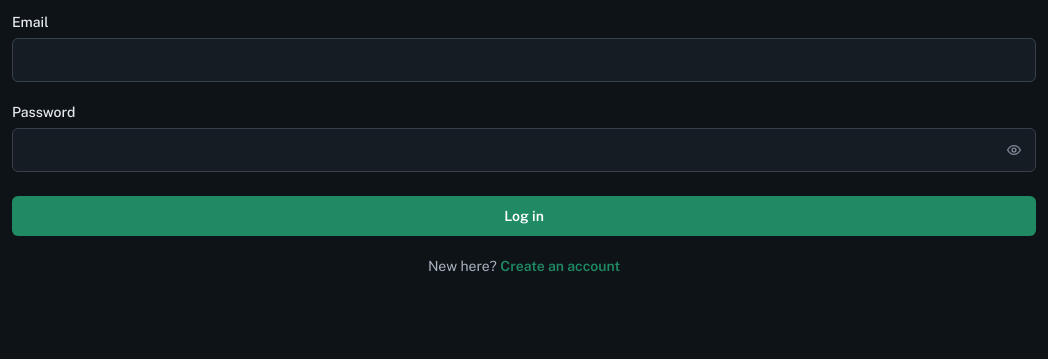
<AuthForm mode="login"> › shakes and explains a wrong password, and stays on the form
Type "p@x.dev" into the field labelled "Email". click: (524, 60)
box: [12,38,1036,82]
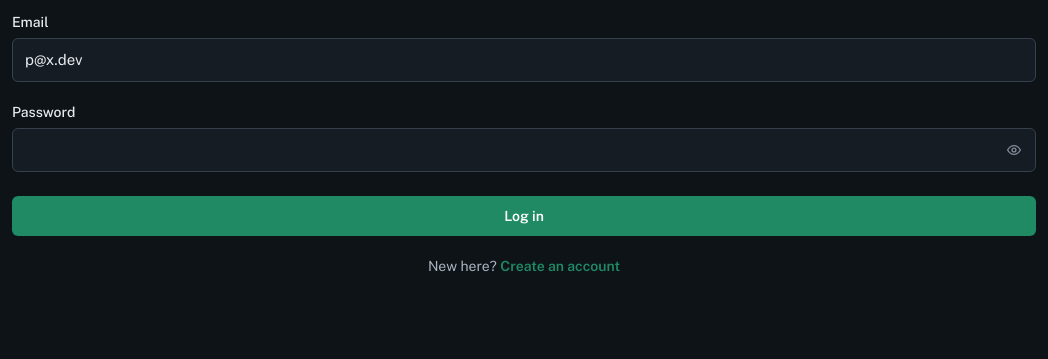
Type "nope-nope" into the password field labelled "Password". click: (524, 150)
box: [12,128,1036,172]
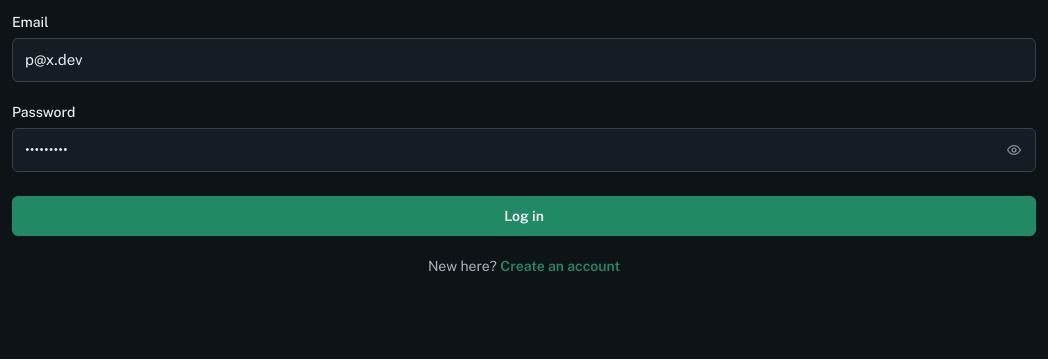
Click the button "Log in". click: click(524, 216)
box: [12,196,1036,236]
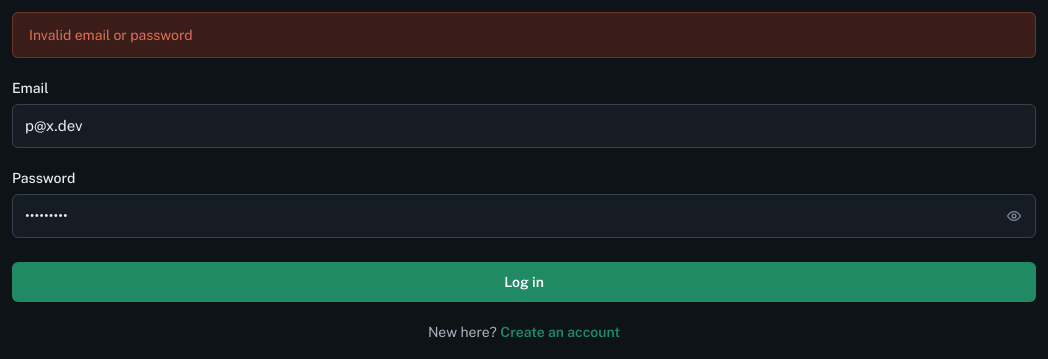
Expected: the message reads "Invalid email or password", [29,27,193,43]
